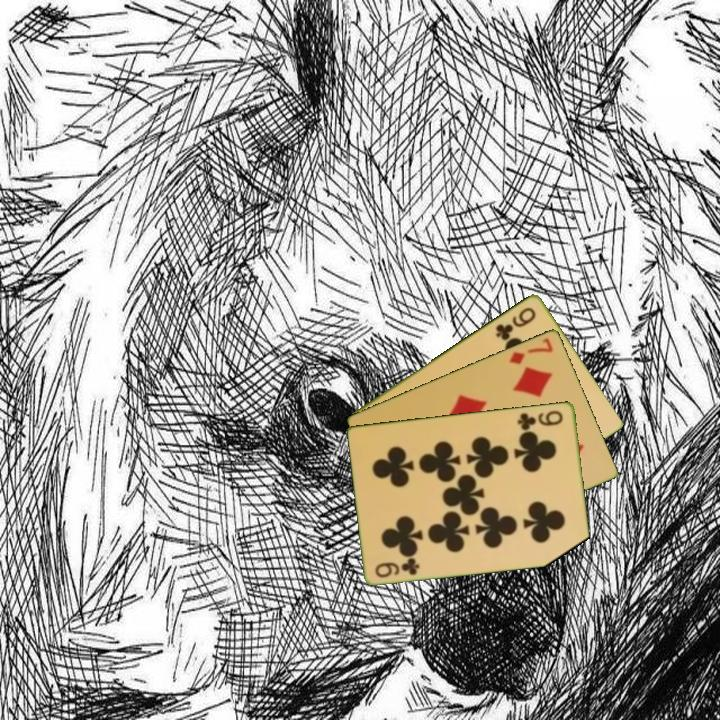7d: (506, 334, 556, 367)
9c: (492, 303, 539, 343), (372, 554, 423, 580), (514, 407, 566, 432)
